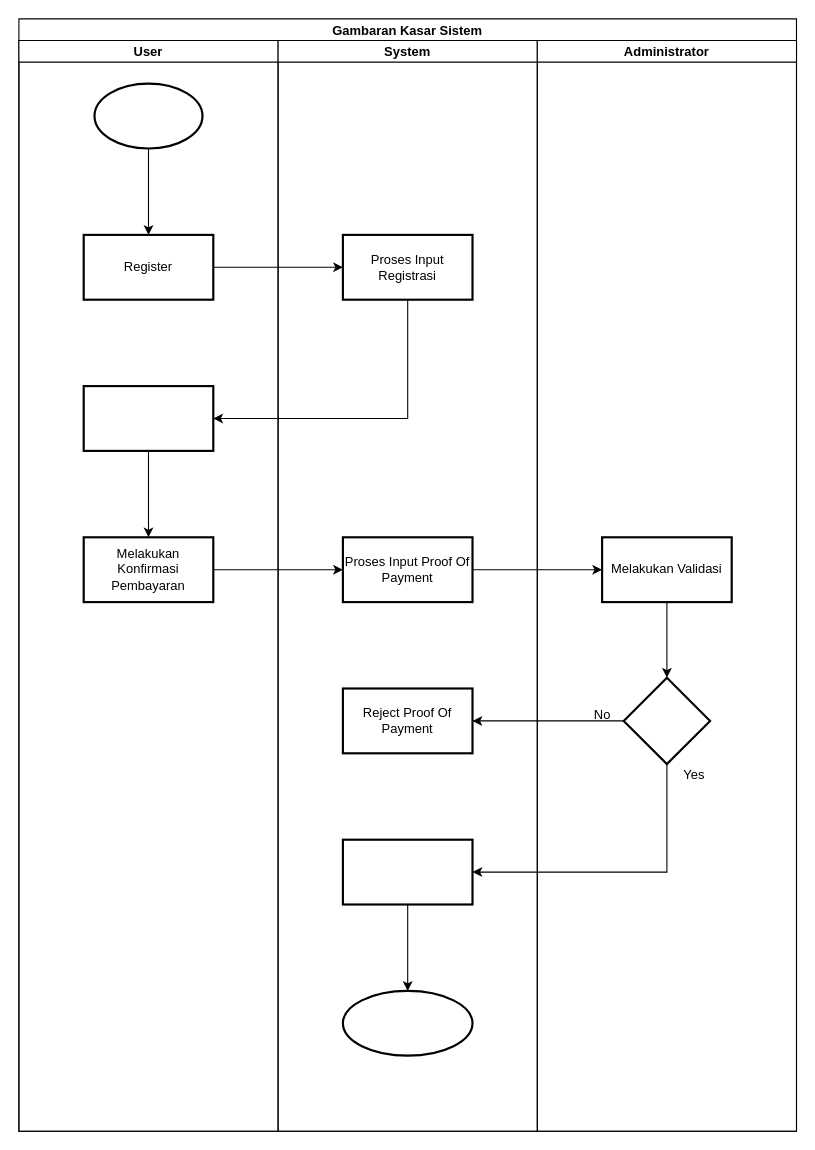
Image size: 815x1150. Some labels were removed from this diagram. The shapes that lost their labels are listed below. From the top down, each one's centre as x and y in pixels, then its label:
At point 148,115: "Start".
At point 148,417: "Melakukan Pembayaran (Manual Transfer)".
At point 666,720: "Valid?".
At point 407,871: "Proses Proof Of Payment, ganti status payment dan ubah status user".
At point 407,1022: "Selesai".
